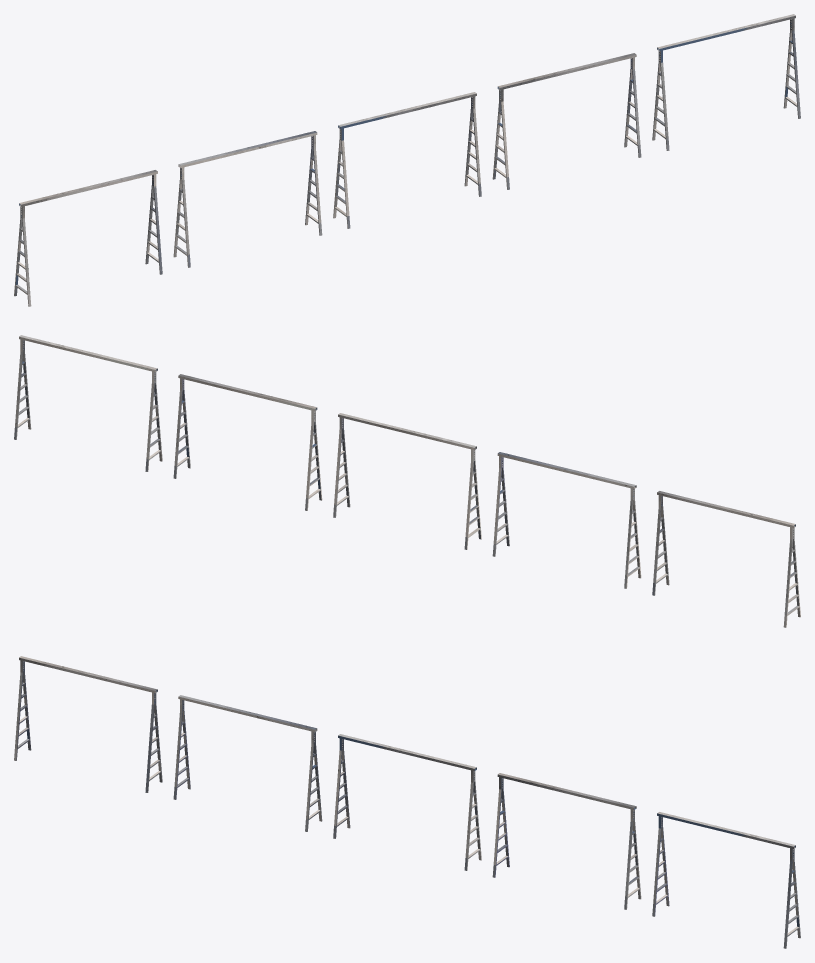
The model's file is tower_metal.fbx.
3 renders of one model, top to bottom at view 1: azimuth 30°, elevation 25°; view 2: azimuth 150°, elevation 25°; view 3: azimuth 330°, elevation 25°, orthographic.
Visible parts, largest first — view 1: Object.009; view 2: Object.009; view 3: Object.009.
Boxes of the visible parts, x1,y1,x2,y2 form: Object.009: (14,14,800,306); Object.009: (14,335,800,627); Object.009: (14,656,800,948).
Bounding box in the file's own units: 10200 × 1231 × 342.
